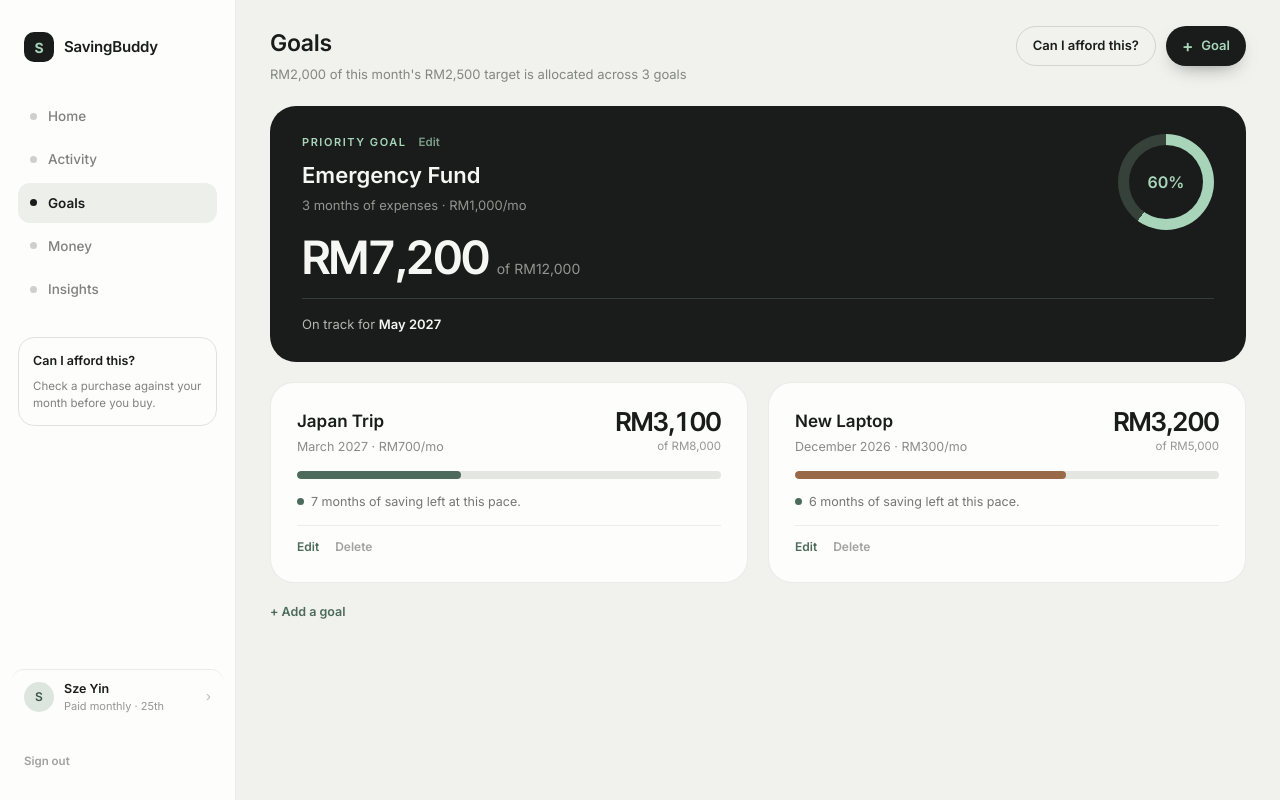
Test: AppShell primary action › keeps the in-page link working, since both open the same modal
The image size is (1280, 800).
Click the button "+ Add a goal": x=308, y=613 x1=270 y1=603 x2=346 y2=622
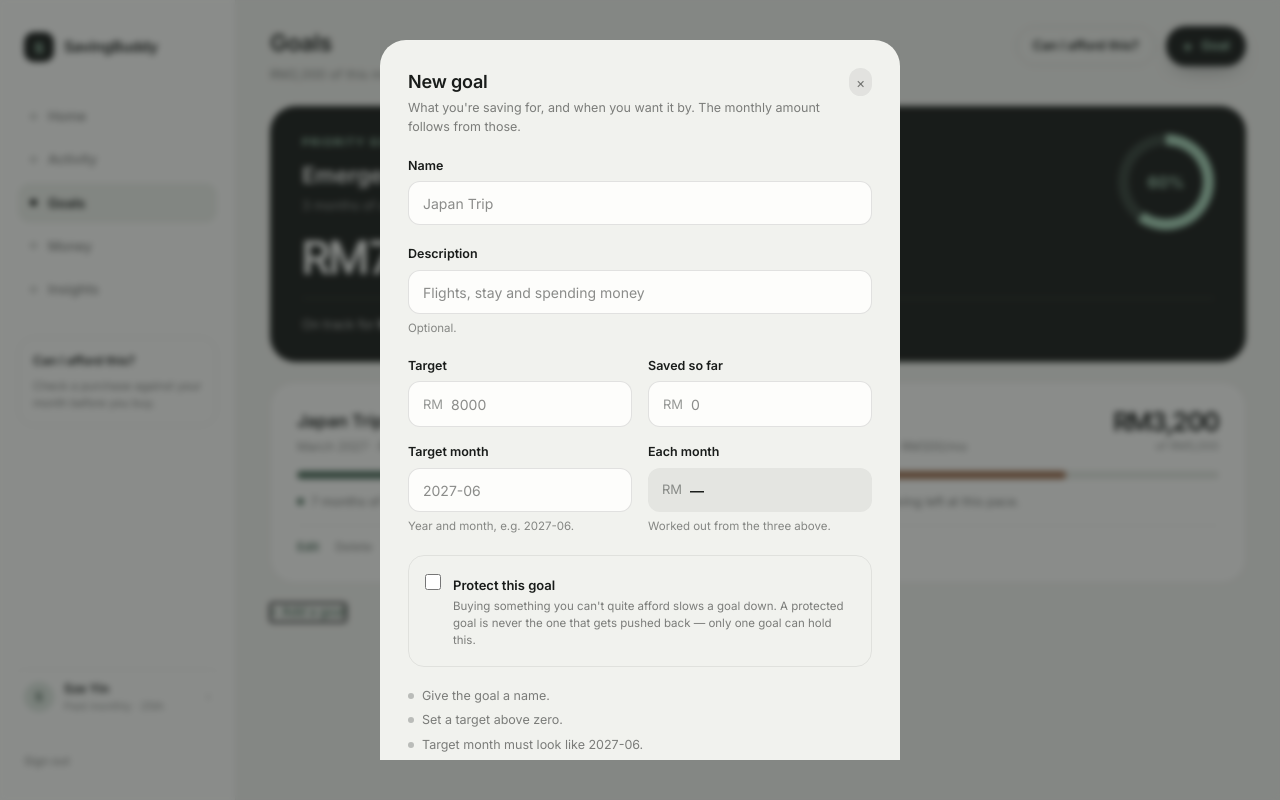
Now the heading "New goal" is shown, box x1=408 y1=71 x2=488 y2=92
